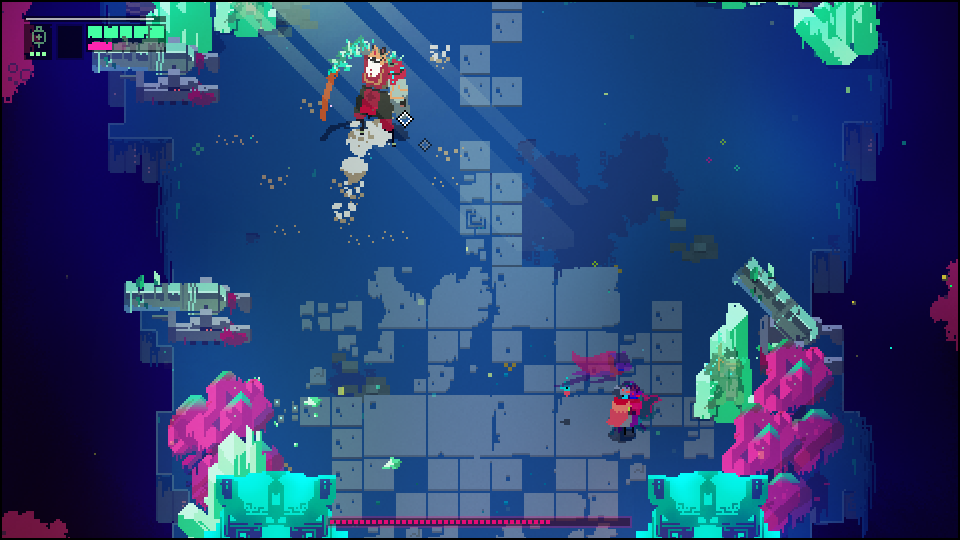hanged_man: (319, 36, 415, 141)
player: (602, 384, 637, 443)
